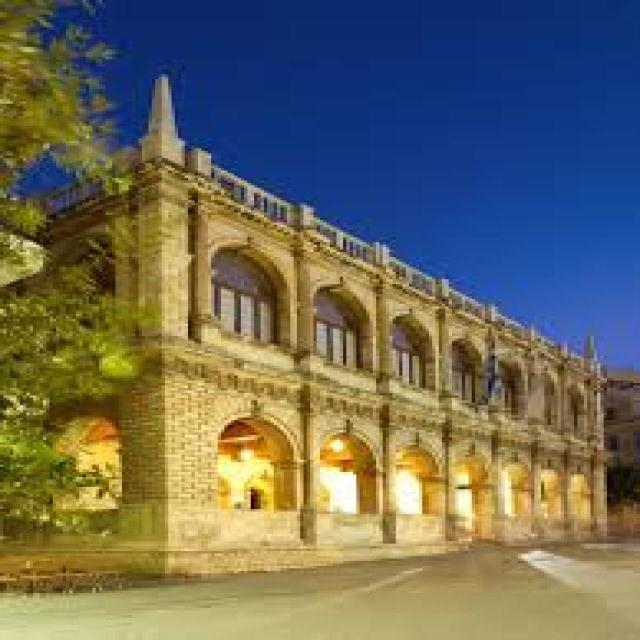Loggia: (2, 64, 619, 577)
